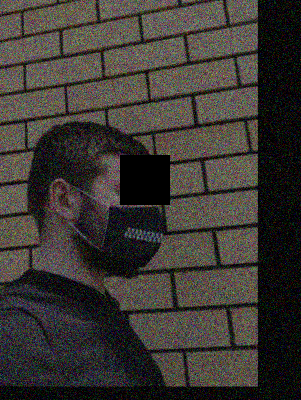with_mask: (99, 176, 163, 279)
